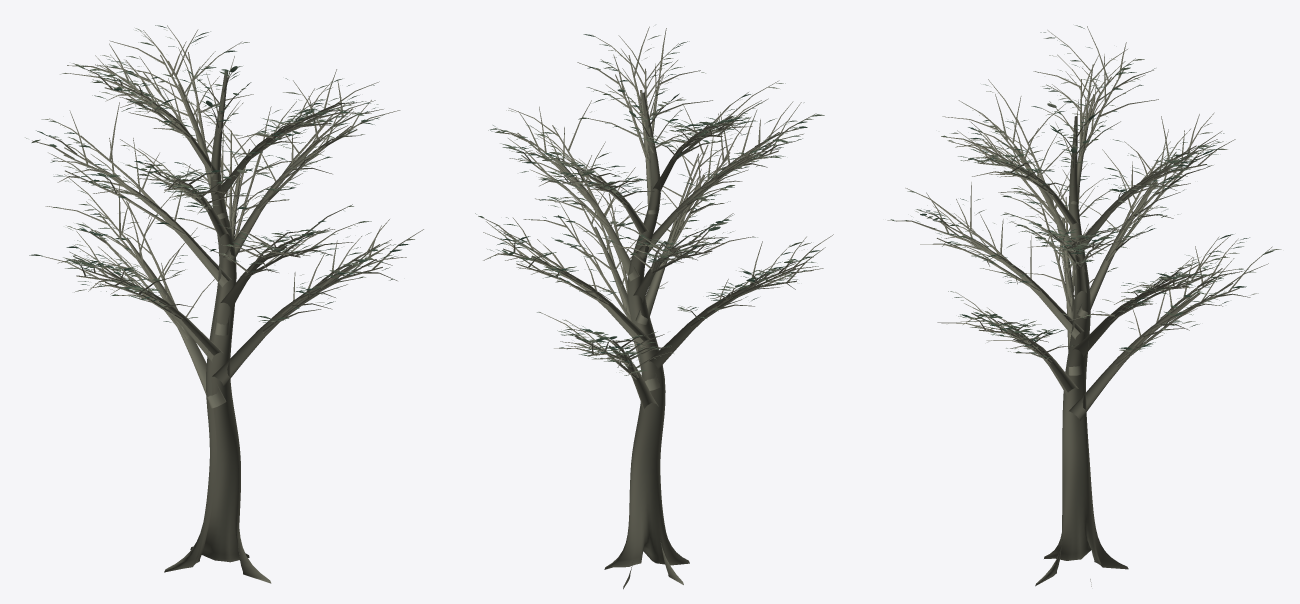
The picture shows the model from 3 angles, left to right: view 1: azimuth 30°, elevation 25°; view 2: azimuth 150°, elevation 25°; view 3: azimuth 270°, elevation 25°; orthographic projection. The views are drawn at different scales.
Parts seen in each view (by area): view 1: branches, leaves; view 2: branches, leaves; view 3: branches, leaves.
Boxes of the visible parts, bbox=[...] form: branches: bbox=[32, 25, 423, 583]; leaves: bbox=[25, 25, 414, 322]; branches: bbox=[481, 26, 833, 589]; leaves: bbox=[475, 34, 824, 375]; branches: bbox=[887, 26, 1272, 586]; leaves: bbox=[890, 25, 1281, 358].
Size of the model in its own units: 6.15 by 8.84 by 6.62.
